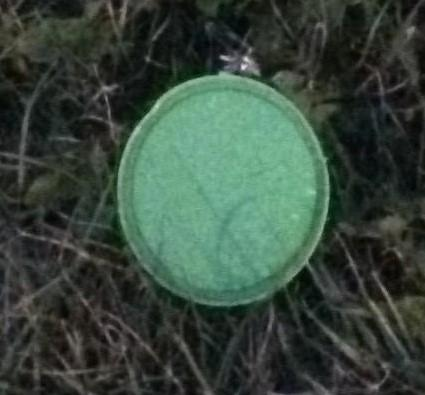Plastic: (119, 76, 330, 306)
